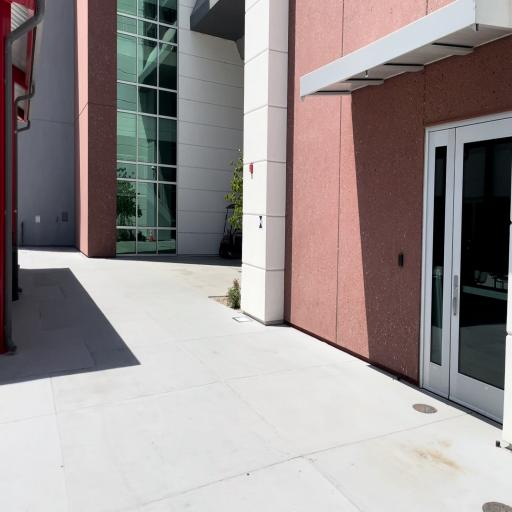target9: (259, 216, 263, 229)
